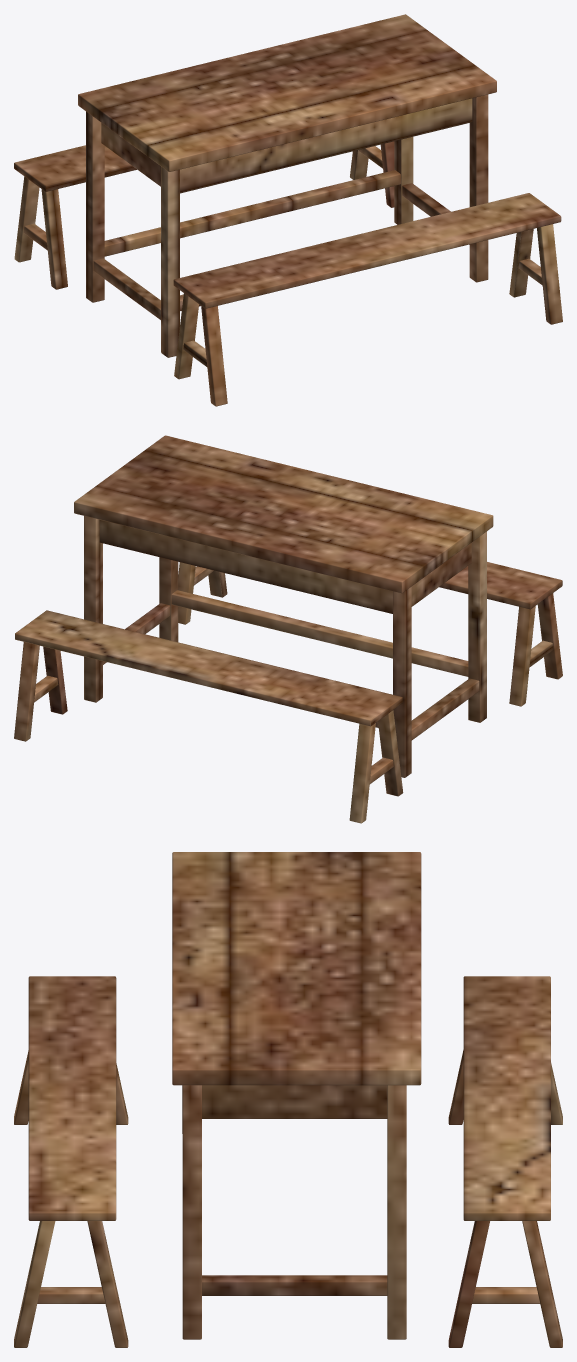
The model's file is table (1).fbx.
3 views of the same model, one above another, from view 1: azimuth 30°, elevation 25°; view 2: azimuth 150°, elevation 25°; view 3: azimuth 270°, elevation 25° (orthographic). The views are drawn at different scales.
Parts seen in each view (by area): view 1: Medival Table.002; view 2: Medival Table.002; view 3: Medival Table.002.
Boxes of the visible parts, box(x1,y1,x2,y2) form: Medival Table.002: box(14, 14, 562, 406); Medival Table.002: box(14, 435, 562, 823); Medival Table.002: box(14, 852, 562, 1347).
Bounding box in the file's own units: 134 × 72.26 × 131.
1 material, 1 textured.
